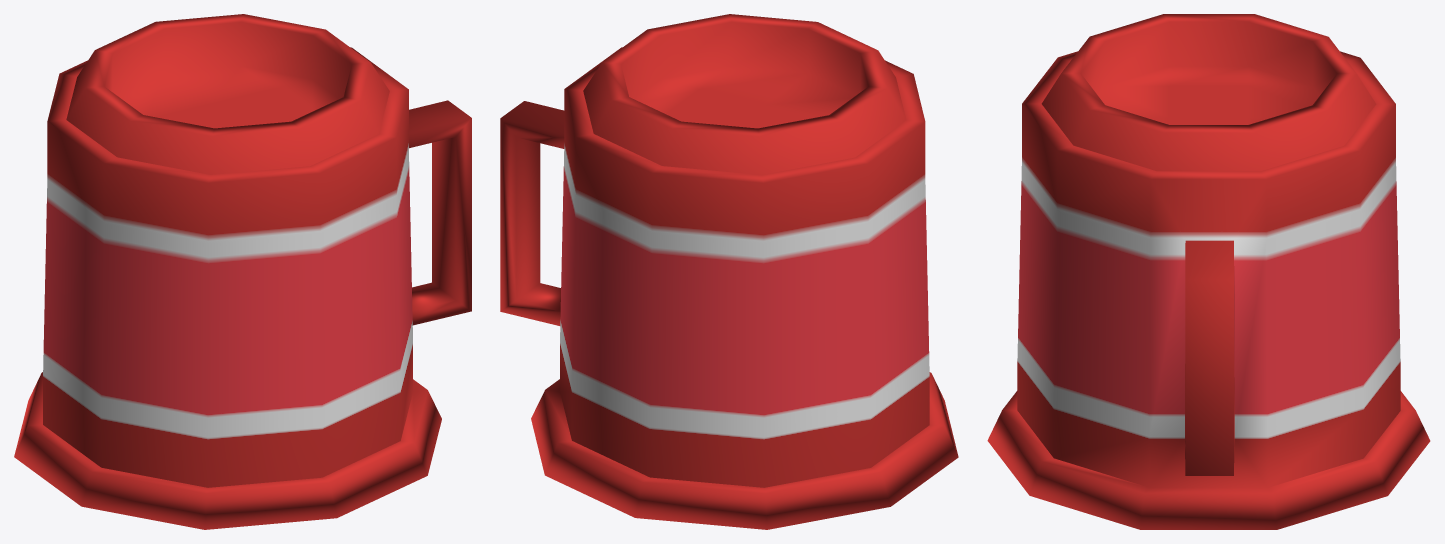
Rendered from RedMug.obj.
3 views of the same model, side by side, from view 1: azimuth 30°, elevation 25°; view 2: azimuth 150°, elevation 25°; view 3: azimuth 270°, elevation 25° (orthographic).
Visible parts, largest first — view 1: polySurface2; view 2: polySurface2; view 3: polySurface2.
Boxes of the visible parts, x1,y1,x2,y2 form: polySurface2: (14,14,471,529); polySurface2: (500,14,958,529); polySurface2: (987,14,1430,529).
Size of the model in its own units: 2.44 by 2.05 by 2.24.
